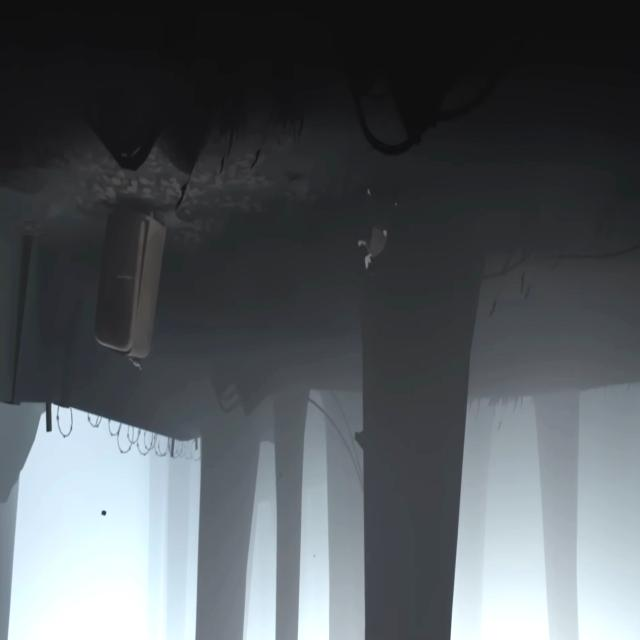boy: (358, 183, 398, 274)
